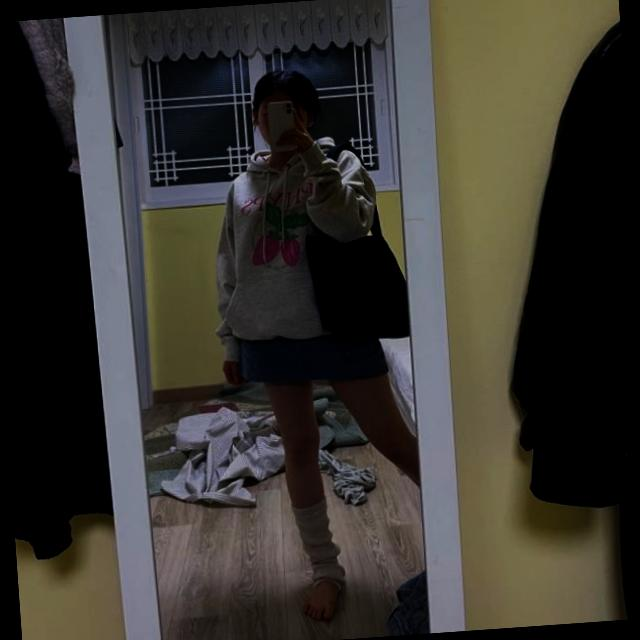hoodies: (205, 137, 393, 366)
skirt: (238, 324, 388, 386)
